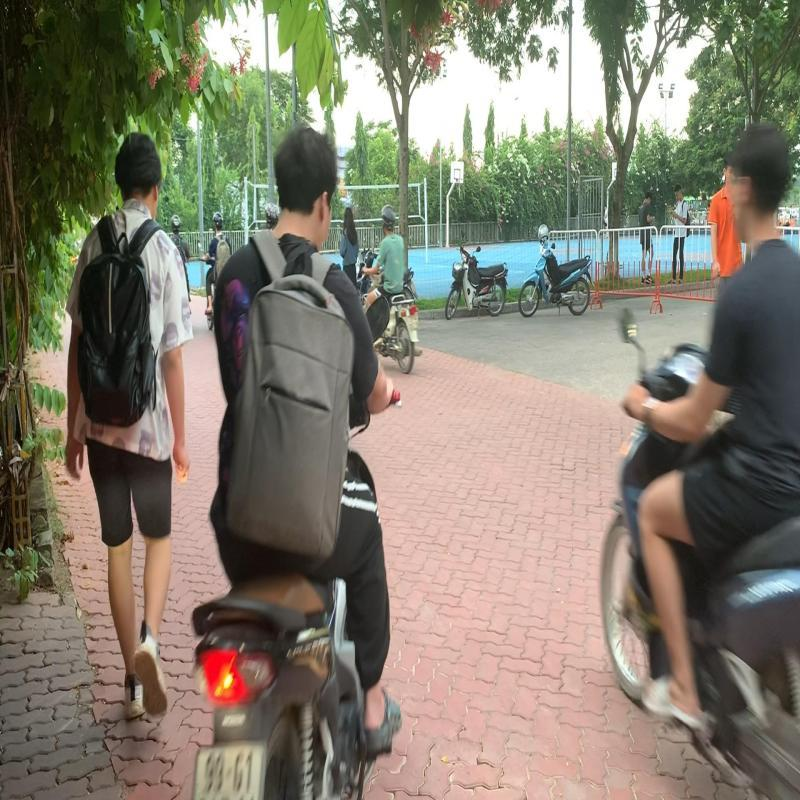nohelmet: (269, 112, 340, 242)
